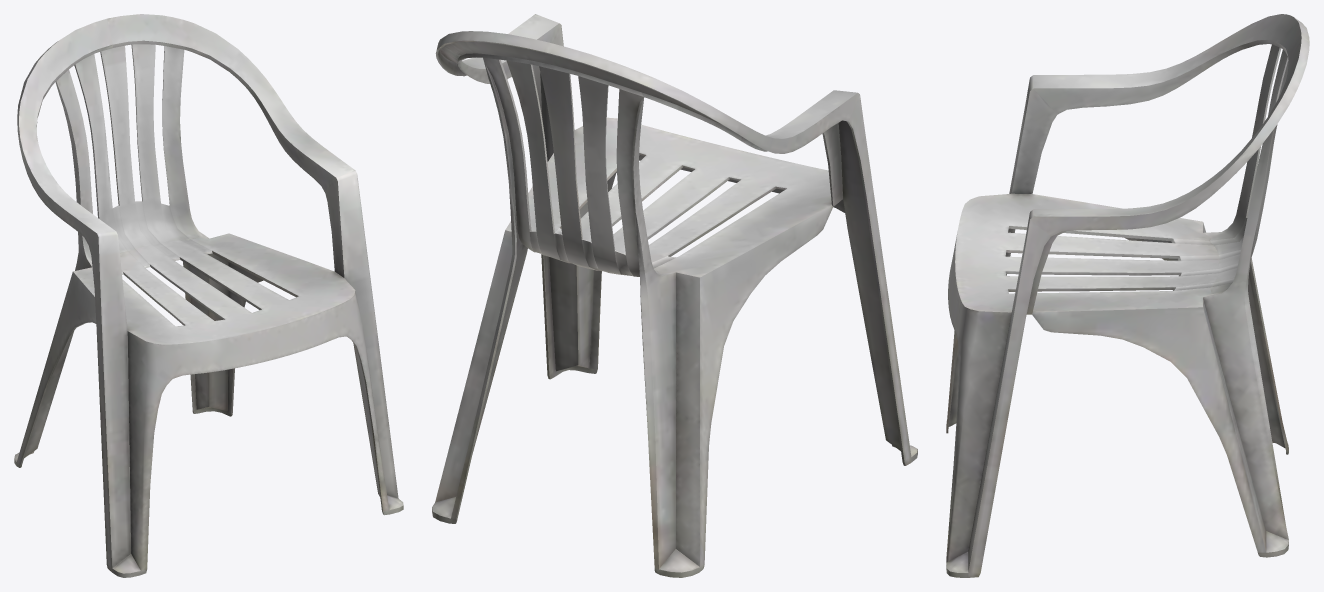
Rendered from plastic_monobloc_chair_01.glb.
3 views of the same model, side by side, from view 1: azimuth 30°, elevation 25°; view 2: azimuth 150°, elevation 25°; view 3: azimuth 270°, elevation 25° (orthographic). The views are drawn at different scales.
Visible parts, largest first — view 1: plastic_monobloc_chair_01; view 2: plastic_monobloc_chair_01; view 3: plastic_monobloc_chair_01.
Boxes of the visible parts, <box> form: plastic_monobloc_chair_01: <box>14,14,403,577</box>; plastic_monobloc_chair_01: <box>432,14,917,577</box>; plastic_monobloc_chair_01: <box>946,14,1309,577</box>.
Size of the model in its own units: 0.6418 by 0.8798 by 0.6276.
1 material, 1 textured.
